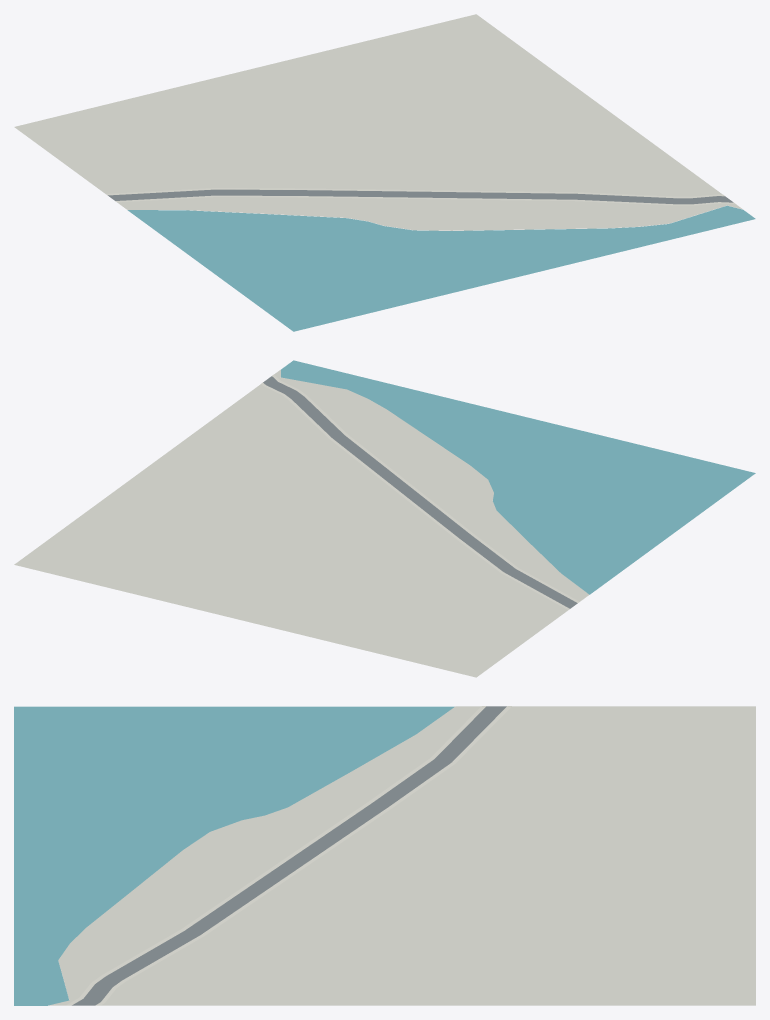
The picture shows the model from 3 angles, top to bottom: view 1: azimuth 30°, elevation 25°; view 2: azimuth 150°, elevation 25°; view 3: azimuth 270°, elevation 25°; orthographic projection. The views are drawn at different scales.
Visible parts, largest first — view 1: city; view 2: city; view 3: city.
Part boxes in pixels (x1,y1,x2,y2): city: (14, 14, 755, 331); city: (14, 360, 755, 677); city: (14, 706, 755, 1005).
Bounding box in the file's own units: 477 × 0.4 × 500.
